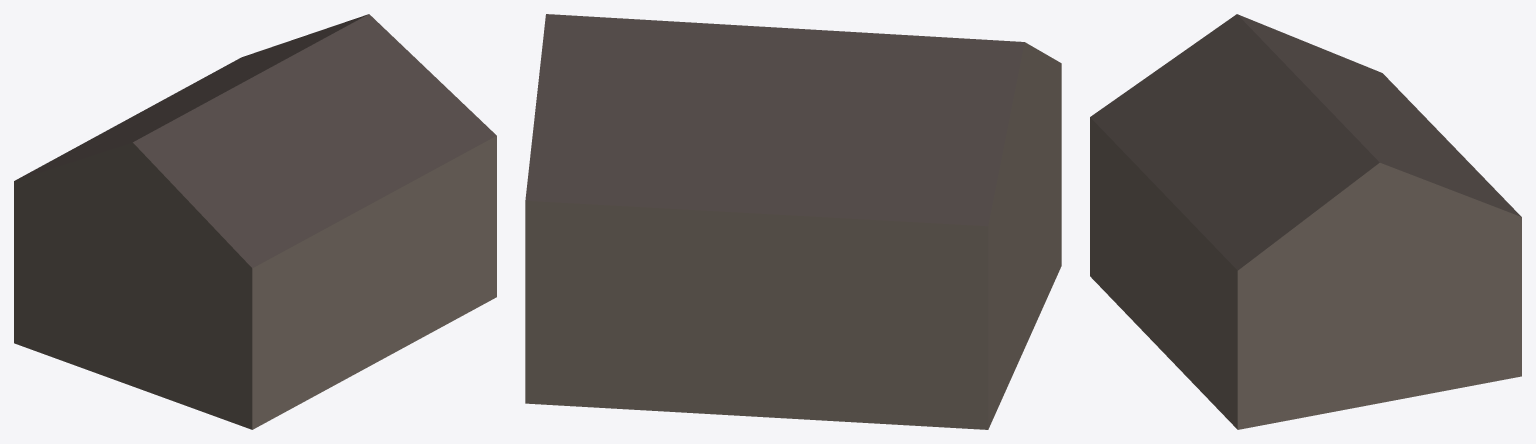
The picture shows the model from 3 angles, left to right: view 1: azimuth 30°, elevation 25°; view 2: azimuth 150°, elevation 25°; view 3: azimuth 270°, elevation 25°; orthographic projection. The views are drawn at different scales.
Visible parts, largest first — view 1: HP-w1512911311; view 2: HP-w1512911311; view 3: HP-w1512911311.
Part boxes in pixels (box(x1,y1,x2,y2)): HP-w1512911311: box(14, 14, 496, 429); HP-w1512911311: box(525, 14, 1061, 429); HP-w1512911311: box(1090, 14, 1521, 429).
Bounding box in the file's own units: 15.91 × 9.06 × 14.75.
